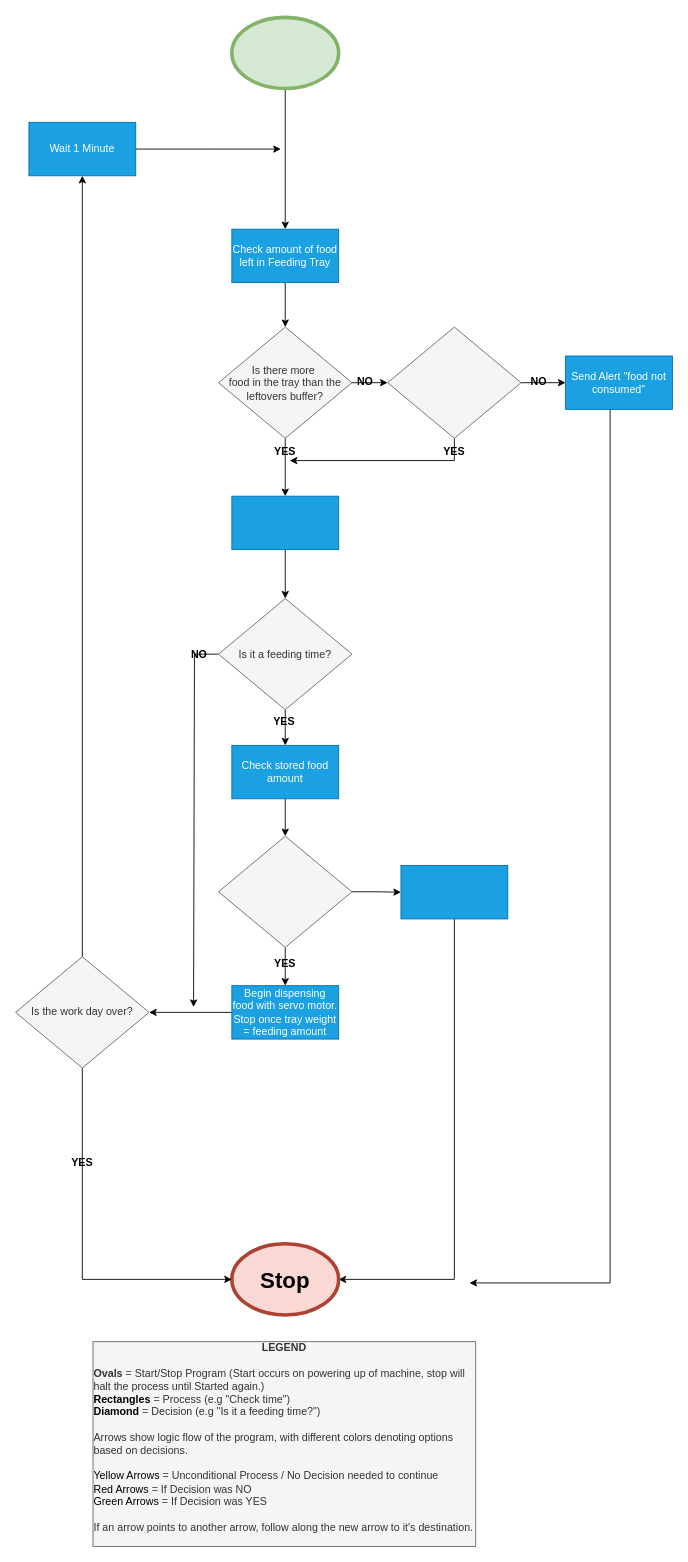
The diagram is 688 pixels wide and 1562 high, and some of its shapes have lost their labels. The centre of each missing label's shape, as x and y in pixels:
Check time: [285,522]
Is enough food stored to fill up the tray to the feeding amount?: [285,891]
Send Alert "not enough food": [454,892]
Start: [285,52]
Was the last feeding session less than 20 minutes ago?: [454,382]
